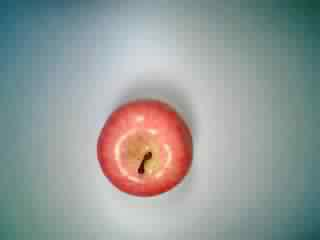apple: (95, 96, 201, 200)
